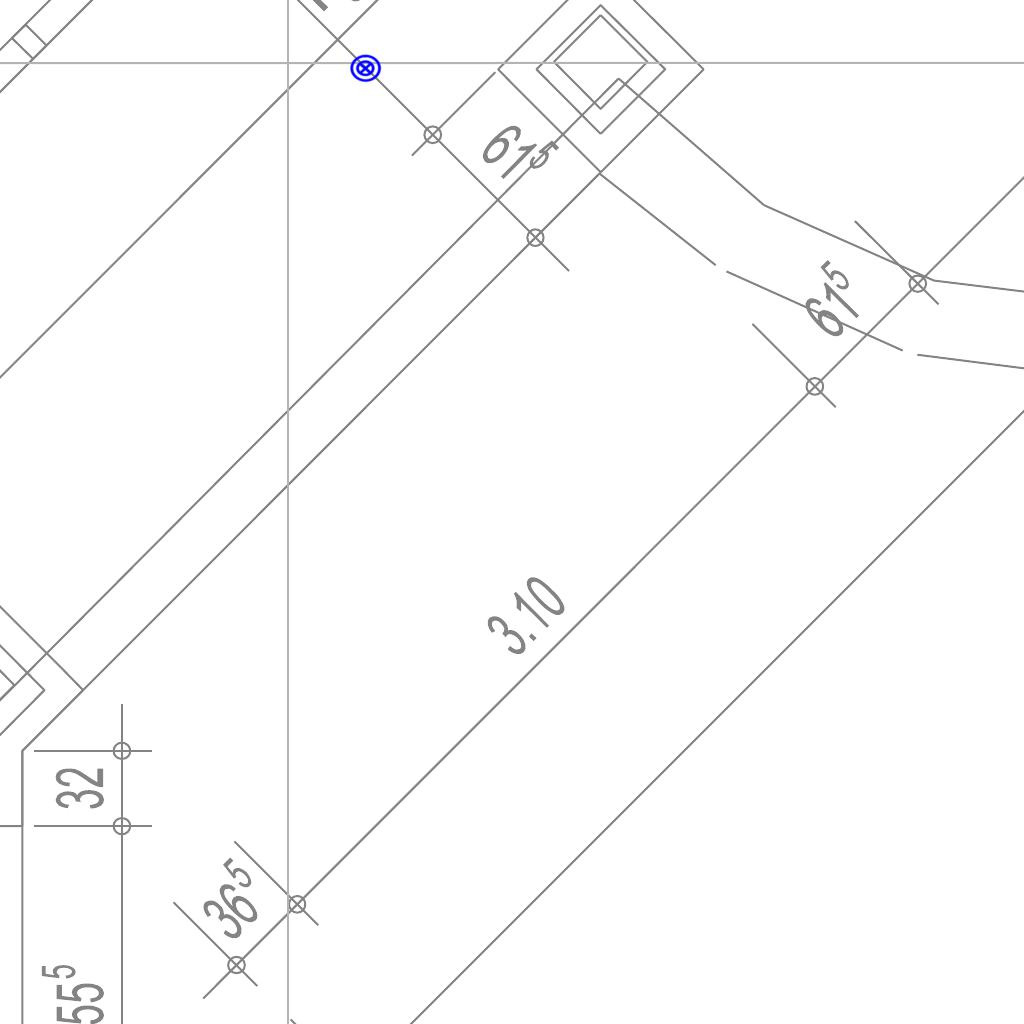Taster_beleuchtet: (349, 52, 382, 85)
